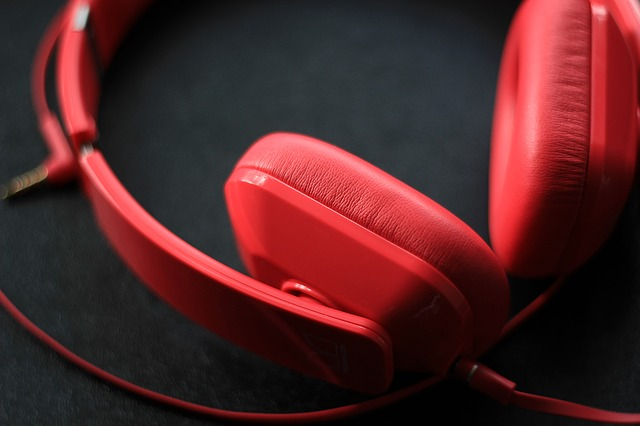headphones: (60, 1, 639, 397)
